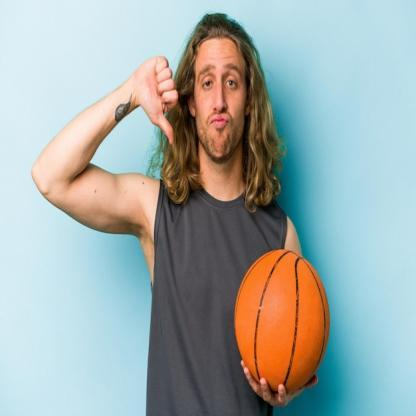thumb_down: (132, 50, 178, 146)
